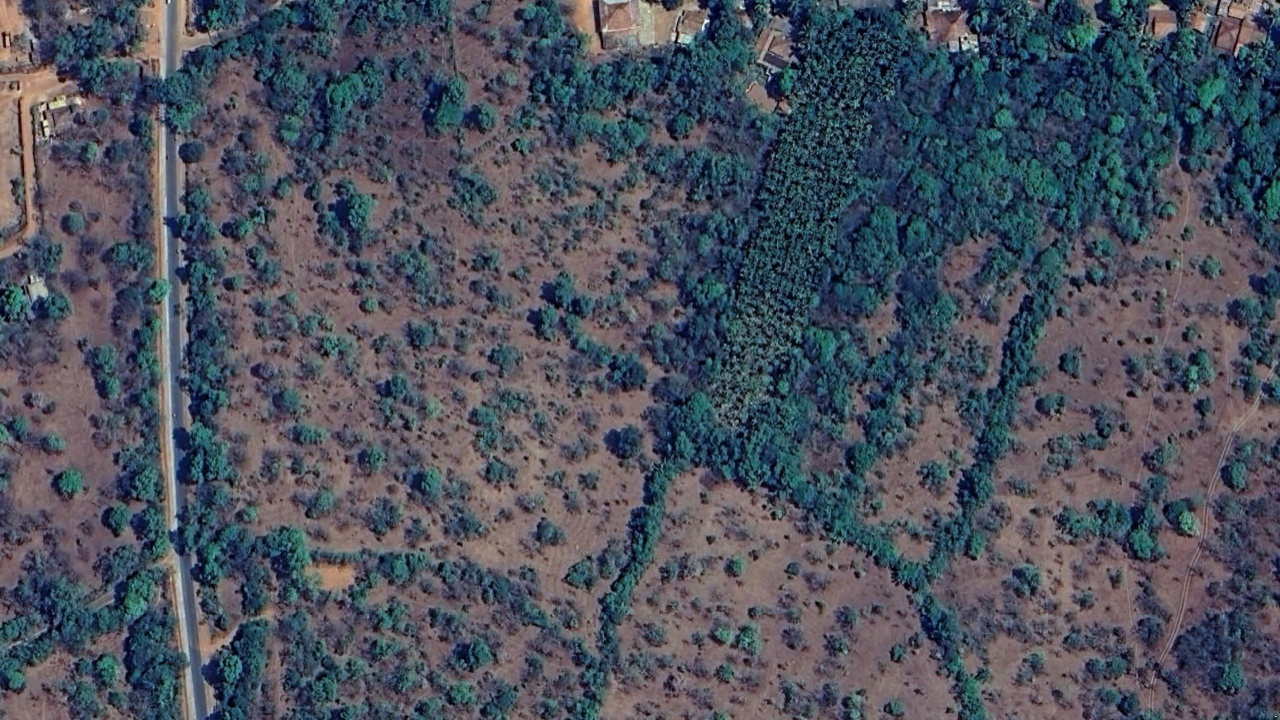arecanut: (705, 8, 901, 455)
